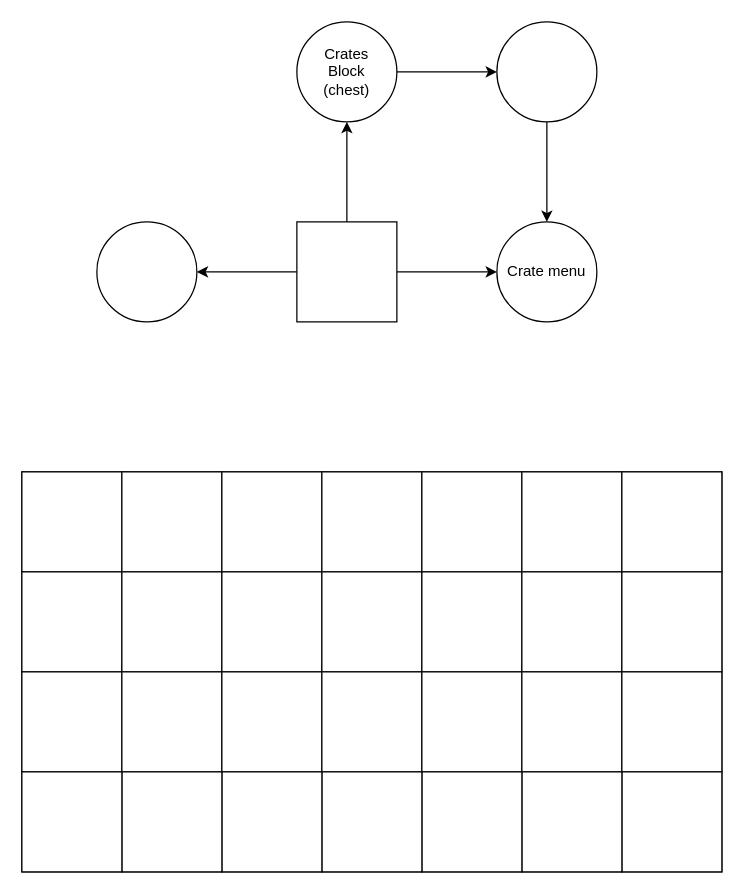
The diagram is 744 pixels wide and 894 high, and some of its shapes have lost their labels. Here are the shapes that lost their labels. From the top down, the centre of each, then its label:
point 546,71: When clickedxr
point 146,271: crate key
